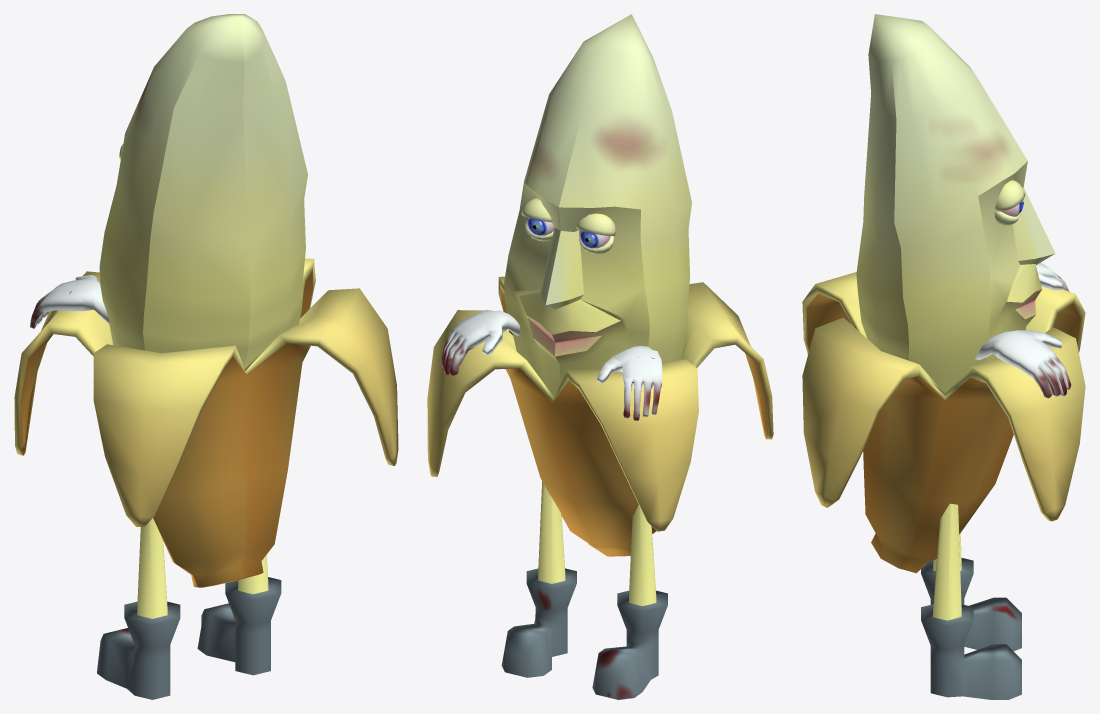
Rendered from banana-monster.fbx.
3 views of the same model, side by side, from view 1: azimuth 30°, elevation 25°; view 2: azimuth 150°, elevation 25°; view 3: azimuth 270°, elevation 25° (orthographic). The views are drawn at different scales.
Visible parts, largest first — view 1: main body, banana peel, legs, arms; view 2: main body, banana peel, legs, arms, eyelids; view 3: main body, banana peel, legs, arms, eyelids.
Part boxes in pixels (box(x1,y1,x2,y2)): main body: box(99, 14, 307, 368); banana peel: box(14, 258, 398, 587); legs: box(97, 518, 281, 699); arms: box(30, 275, 110, 328); main body: box(504, 14, 691, 397); banana peel: box(427, 276, 773, 556); legs: box(501, 481, 667, 699); arms: box(441, 309, 662, 420); eyelids: box(521, 198, 615, 254); main body: box(856, 14, 1055, 393); banana peel: box(802, 272, 1085, 573); legs: box(921, 503, 1021, 699); arms: box(975, 263, 1071, 398); eyelids: box(994, 180, 1025, 225).
Bounding box in the file's own units: 315 × 706 × 278.
7 materials, 7 textured.
